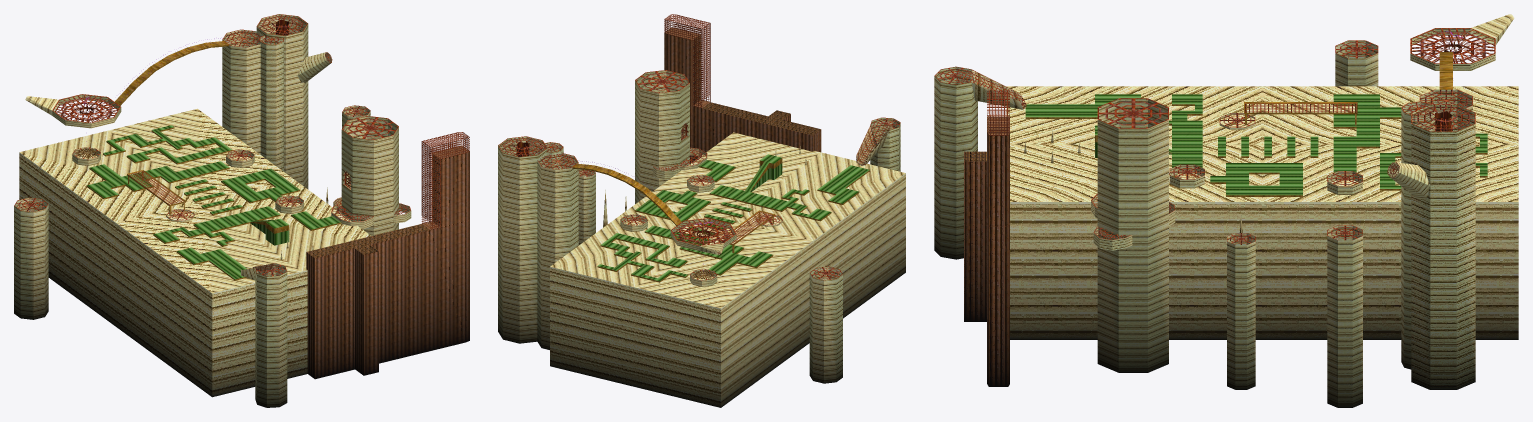
The model's file is ex_m_map_all.glb.
The picture shows the model from 3 angles, left to right: view 1: azimuth 30°, elevation 25°; view 2: azimuth 150°, elevation 25°; view 3: azimuth 270°, elevation 25°; orthographic projection. The views are drawn at different scales.
Visible parts, largest first — view 1: ex_m_map_all; view 2: ex_m_map_all; view 3: ex_m_map_all.
Part boxes in pixels (bbox=[...]): ex_m_map_all: bbox=[14, 14, 469, 407]; ex_m_map_all: bbox=[498, 14, 905, 407]; ex_m_map_all: bbox=[934, 14, 1518, 407].
Size of the model in its own units: 13.79 by 7.75 by 15.17.
8 materials, 8 textured.
